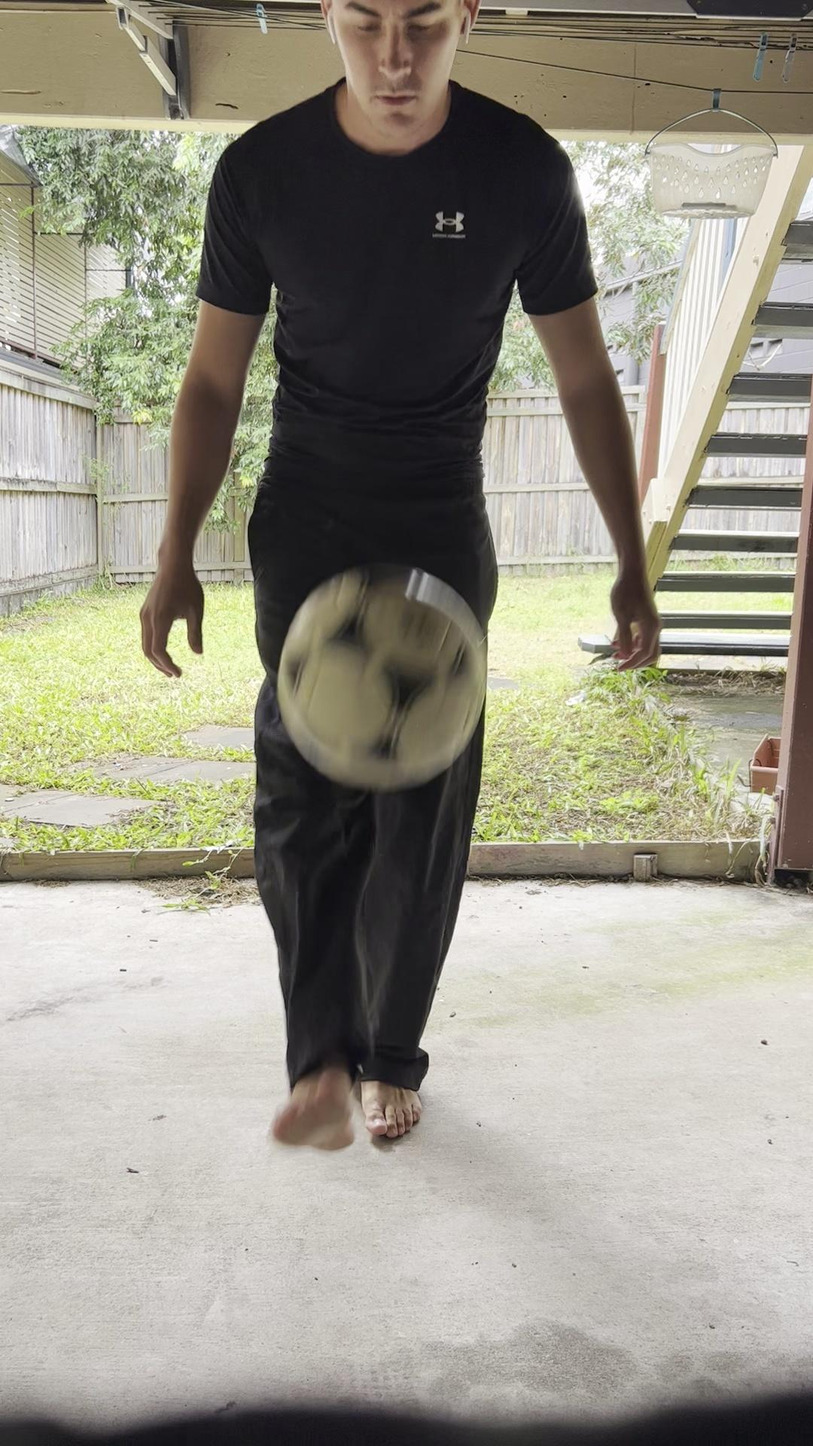ball: (277, 572, 484, 782)
foot: (277, 1064, 353, 1155), (365, 1079, 424, 1142)
person: (141, 0, 662, 1149)
